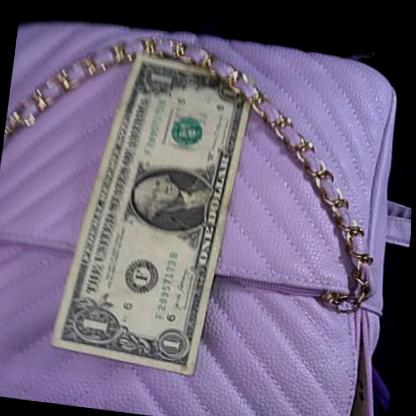one-front: (51, 41, 262, 379)
